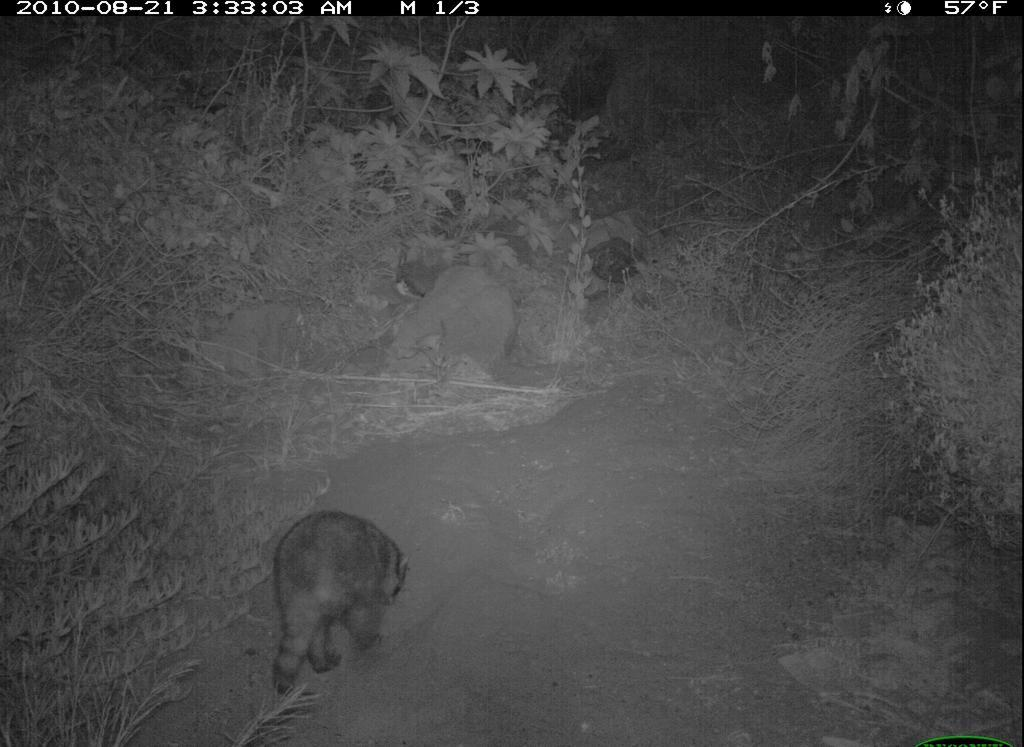raccoon: (257, 498, 415, 707)
